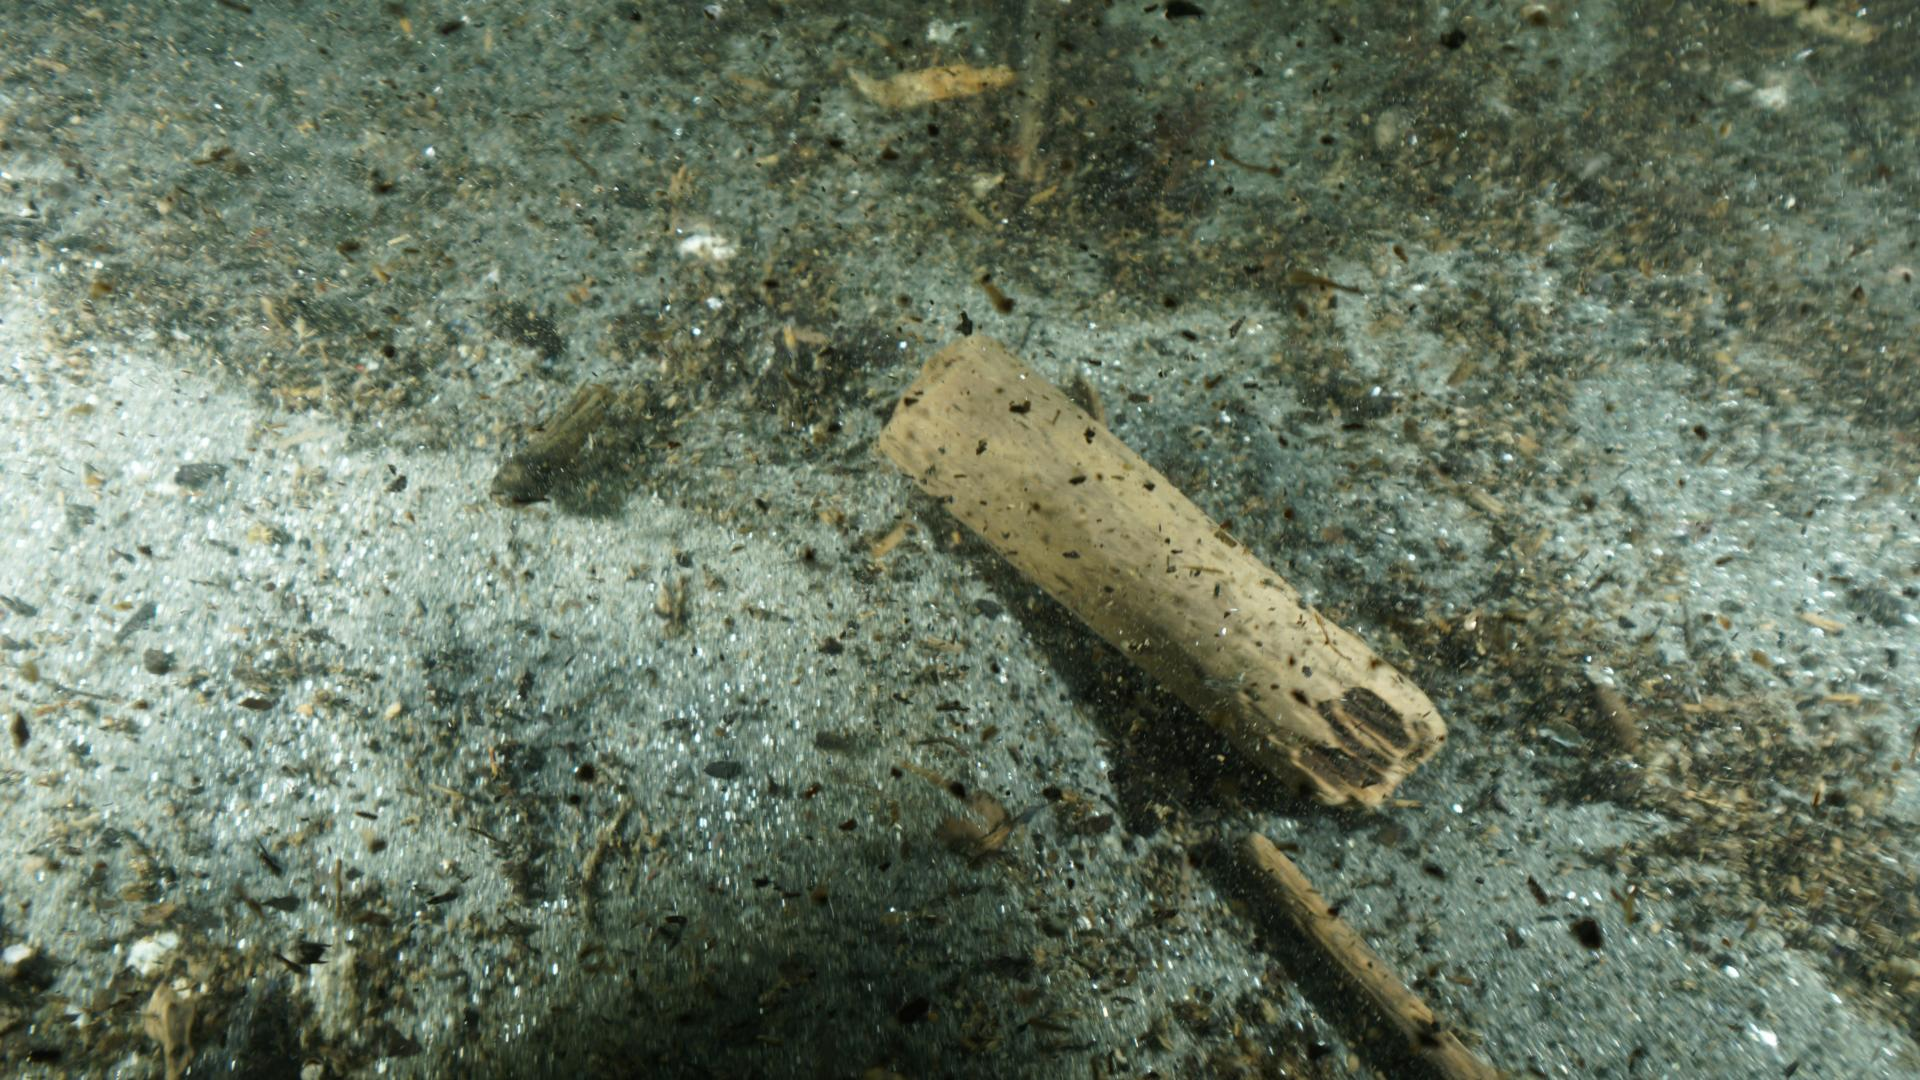wood: (872, 334, 1448, 812)
